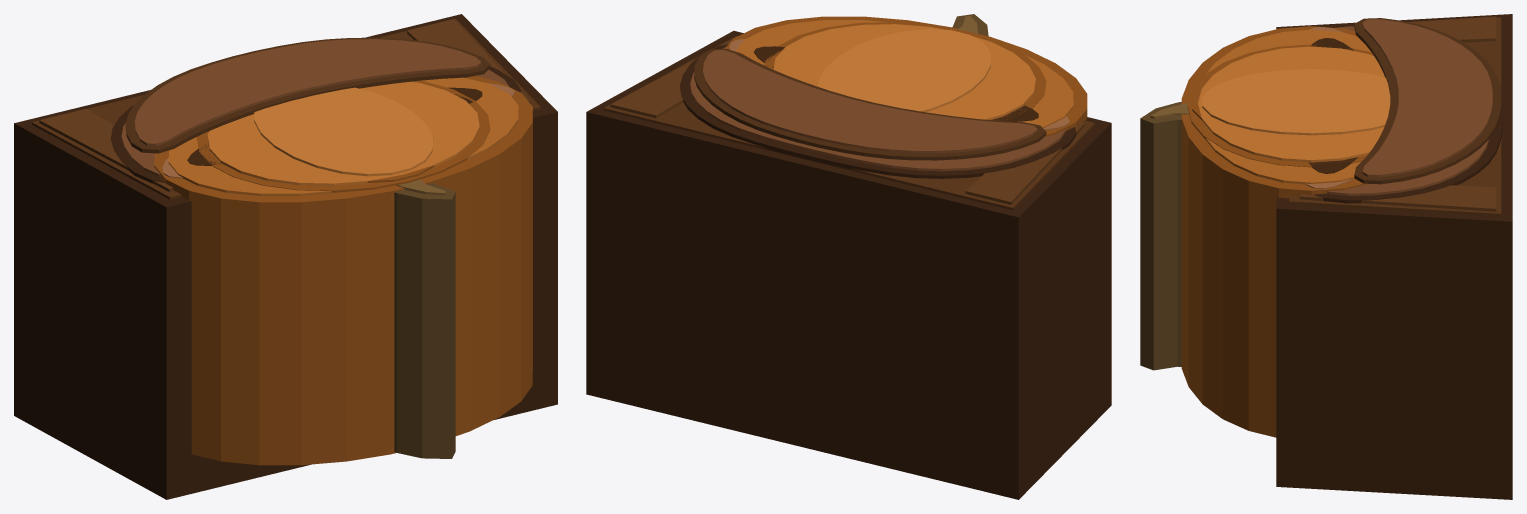
File: bag_abobora.fbx
The picture shows the model from 3 angles, left to right: view 1: azimuth 30°, elevation 25°; view 2: azimuth 150°, elevation 25°; view 3: azimuth 270°, elevation 25°; orthographic projection. The views are drawn at different scales.
Parts seen in each view (by area): view 1: bag_abobora_mochila; view 2: bag_abobora_mochila; view 3: bag_abobora_mochila.
Boxes of the visible parts, x1=… form: bag_abobora_mochila: x1=14, y1=14, x2=557, y2=499; bag_abobora_mochila: x1=586, y1=14, x2=1111, y2=499; bag_abobora_mochila: x1=1140, y1=14, x2=1512, y2=499.
Size of the model in its own units: 2.85 by 1.91 by 2.16.
Materials: 1 (1 with a texture image).
